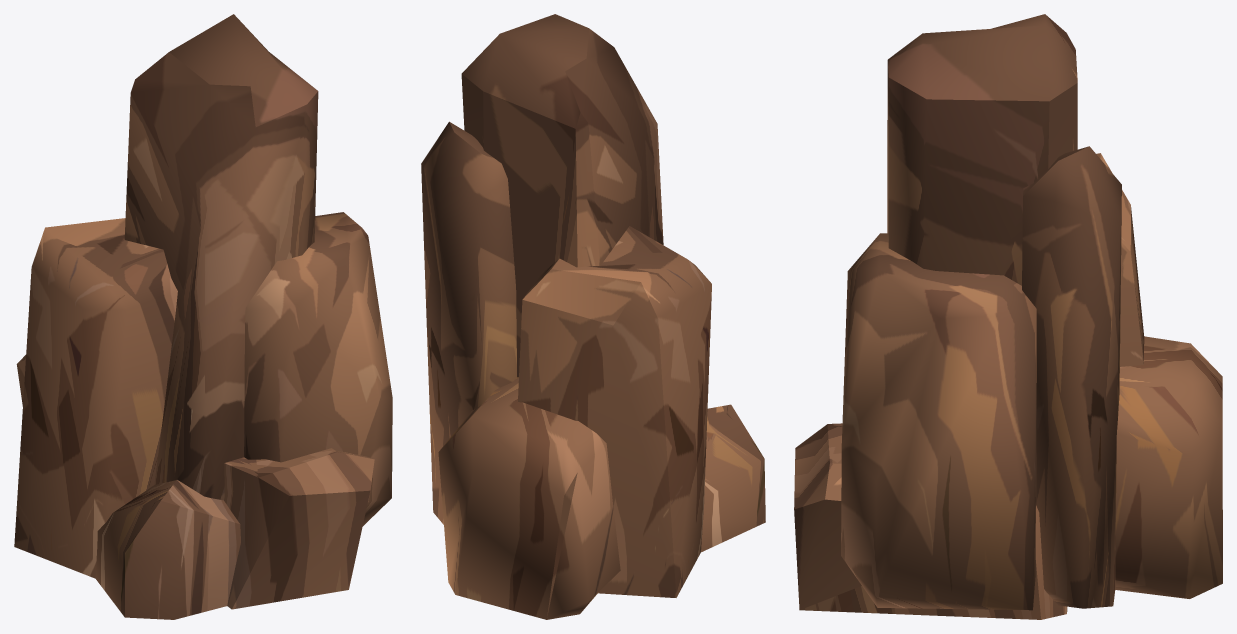
The model's file is rock_1_big.FBX.
3 views of the same model, side by side, from view 1: azimuth 30°, elevation 25°; view 2: azimuth 150°, elevation 25°; view 3: azimuth 270°, elevation 25° (orthographic). The views are drawn at different scales.
Visible parts, largest first — view 1: rock_1_big; view 2: rock_1_big; view 3: rock_1_big.
Part boxes in pixels (bbox=[...]): rock_1_big: bbox=[14, 14, 392, 619]; rock_1_big: bbox=[421, 14, 765, 619]; rock_1_big: bbox=[794, 14, 1222, 619].
Bounding box in the file's own units: 24.11 × 26.74 × 39.91.
1 material, 1 textured.
